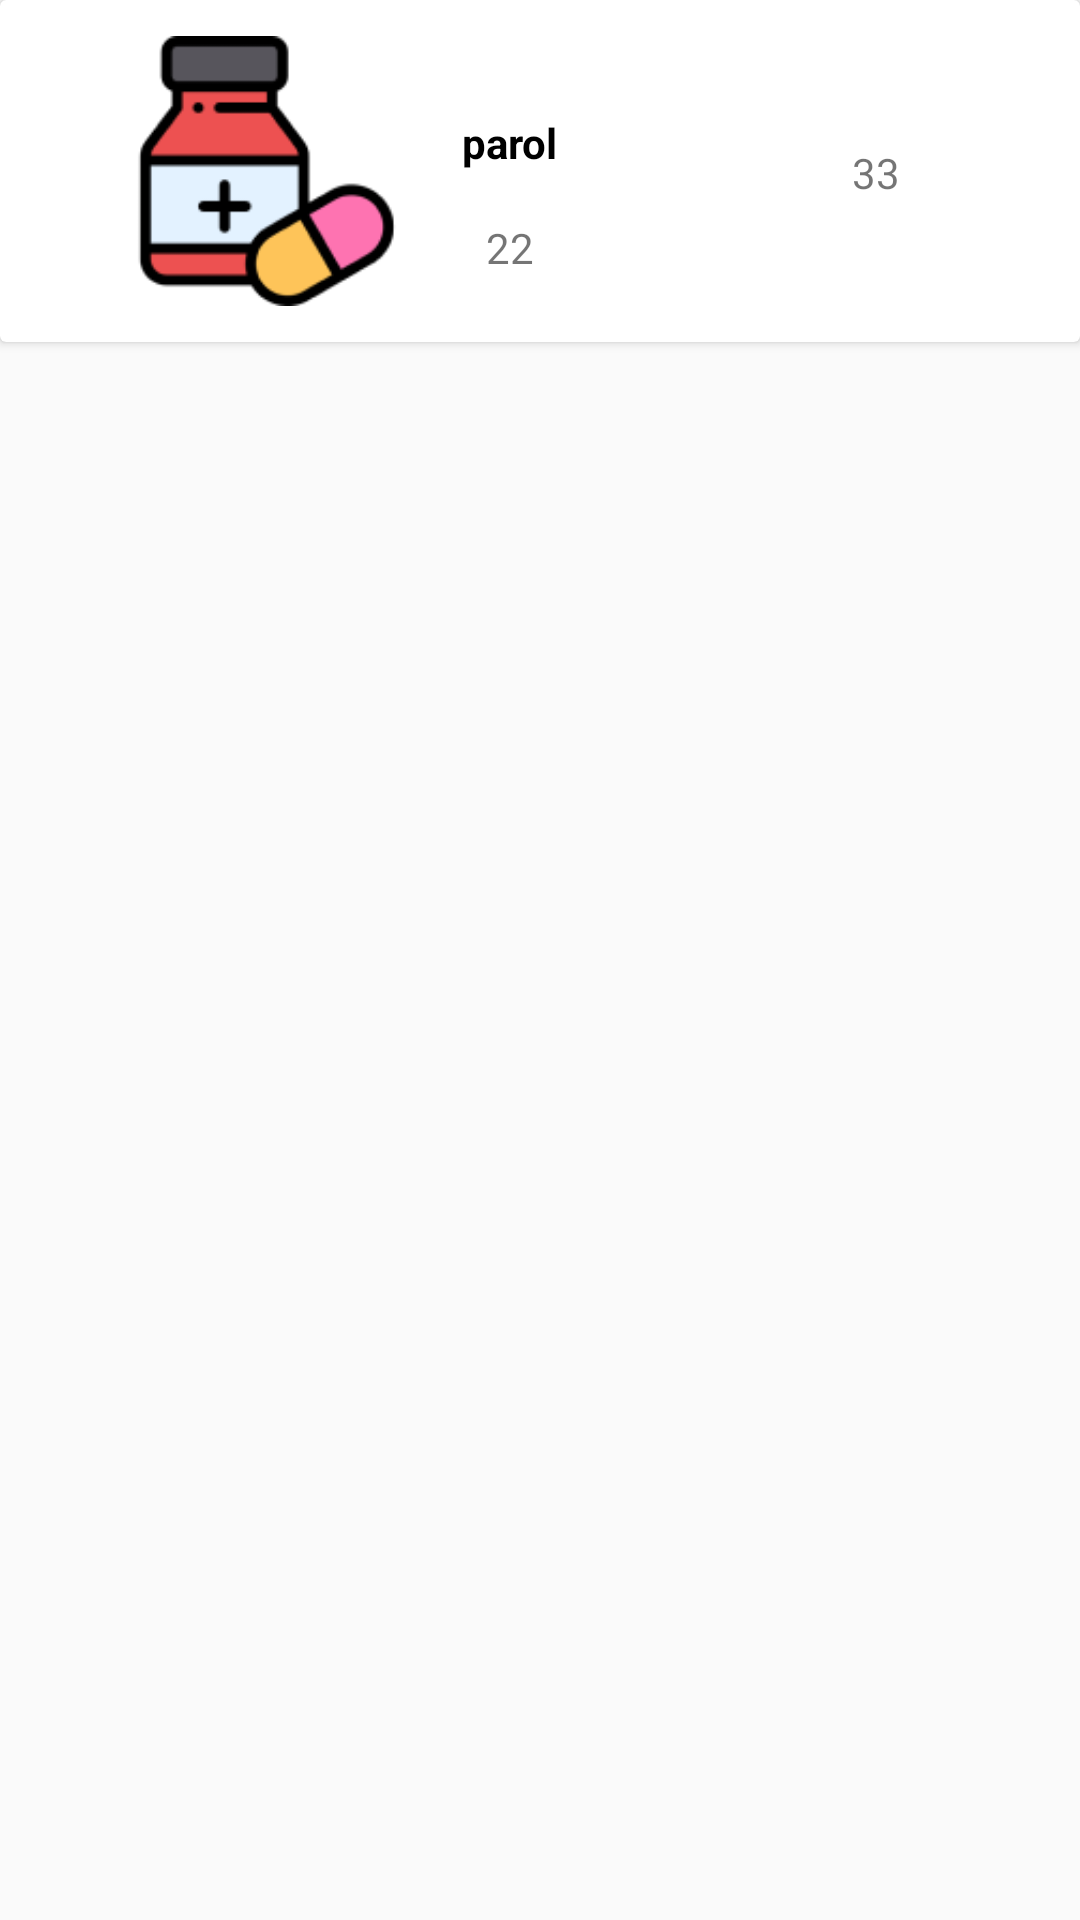

Where to tap for icons on this 1080×1920 app screen, as [x,y]:
pharmacy: [266,171]
